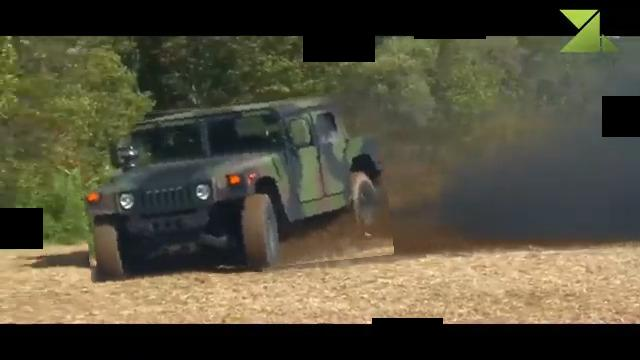MIL_HMMWV: (79, 96, 391, 278)
